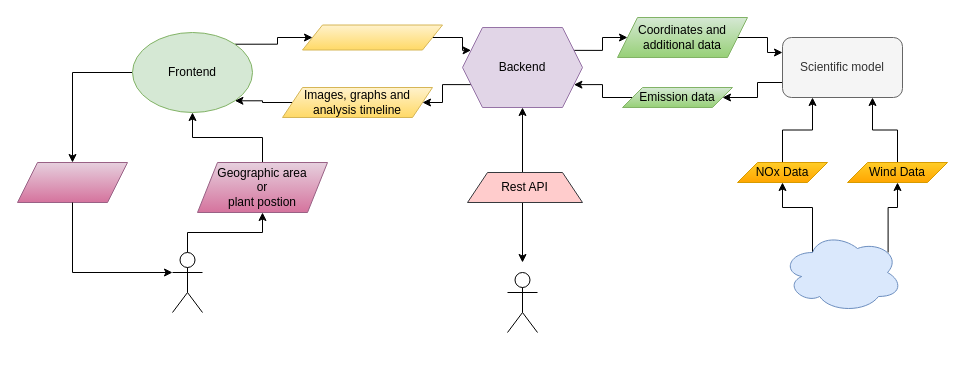
The diagram is 965 pixels wide and 380 high, and some of its shapes have lost their labels. Here are the shapes that lost their labels. From the top down, the box of each, then its label:
(302, 24, 442, 50): Polygon coordinates
(16, 162, 128, 202): Compliance information
(172, 252, 202, 312): Government Consultant Plant
(782, 232, 902, 312): Satellites
(506, 272, 538, 332): Developer
